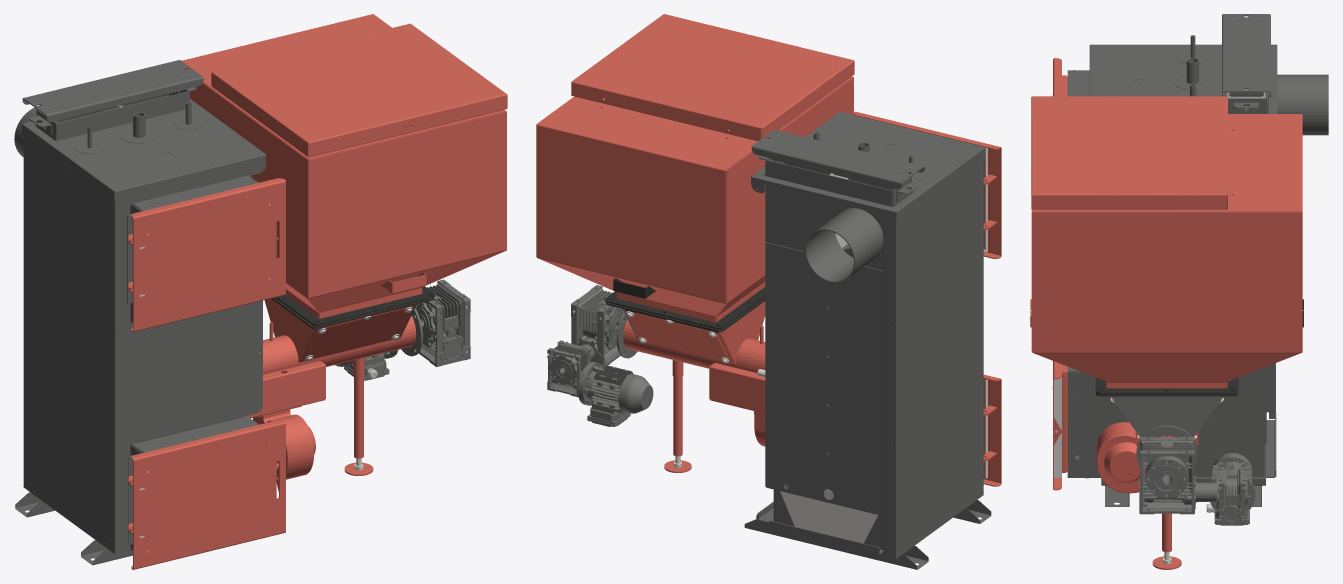
File: k12a_brand_colors_photo_v2.glb
3 renders of one model, left to right at view 1: azimuth 30°, elevation 25°; view 2: azimuth 150°, elevation 25°; view 3: azimuth 270°, elevation 25°, orthographic. The views are drawn at different scales.
Visible parts, largest first — view 1: red, graphite, door, black; view 2: graphite, red, door, bolt, black; view 3: red, graphite, door, black, bolt.
Part boxes in pixels (x1,y1,x2,y2): red: (128,14,507,569); graphite: (14,60,266,565); door: (335,279,470,380); black: (271,286,434,328); graphite: (744,112,991,569); red: (536,14,1001,486); door: (547,285,653,426); bolt: (626,135,987,543); black: (605,278,765,334); red: (1030,58,1302,569); graphite: (1067,14,1328,506); door: (1111,396,1255,525); black: (1095,299,1303,401); bolt: (1052,18,1265,564).
Size of the model in its own units: 1.2 by 1.18 by 0.776.
